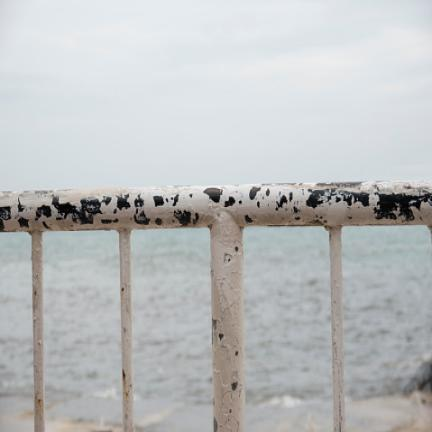besi_tidak_karat: (44, 233, 121, 423)
